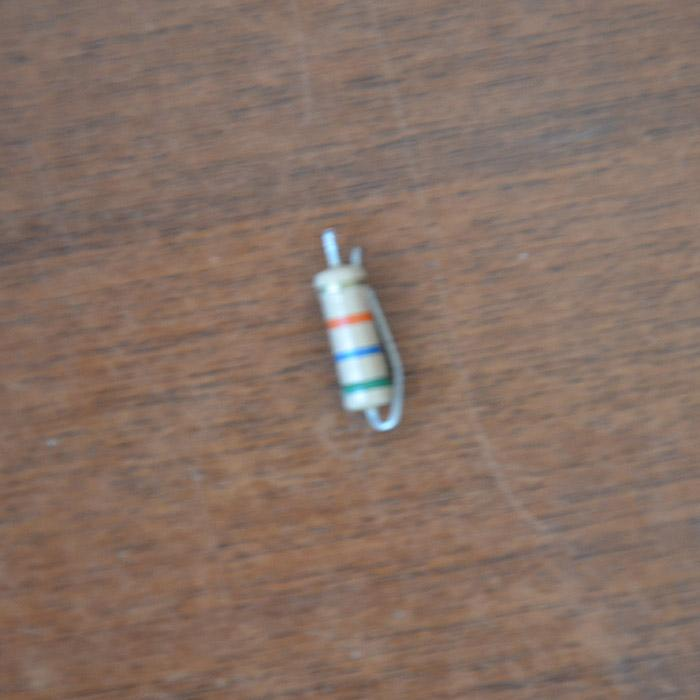resistor: (312, 241, 402, 416)
